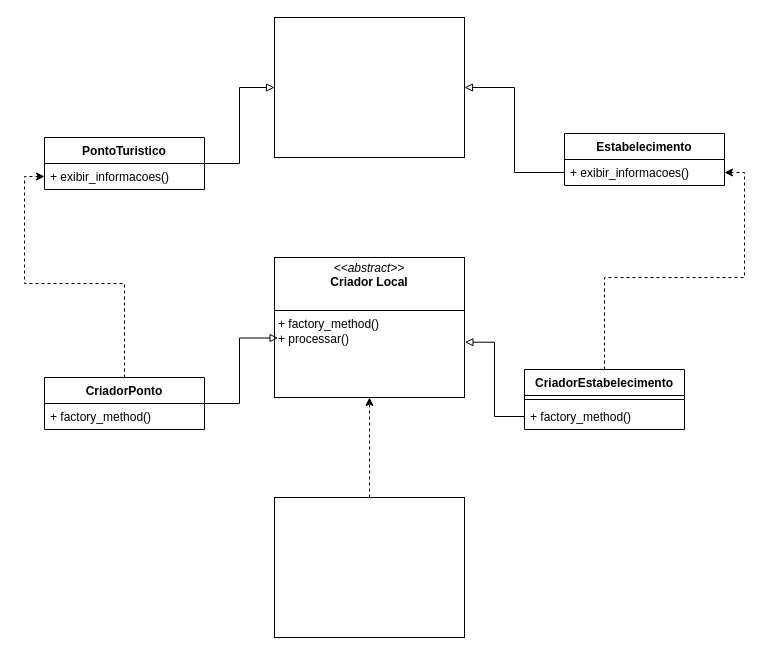
Some shapes in this 770 by 655 pixel diagram are drawn without their labels. Each missing label, with the centre of its shape:
"<<abstract>> Local - nome - descricao - endereco + exibir_informacoes()" goes at point (369, 87).
"LocalFactory - _tipos + criar_local()" goes at point (369, 567).
